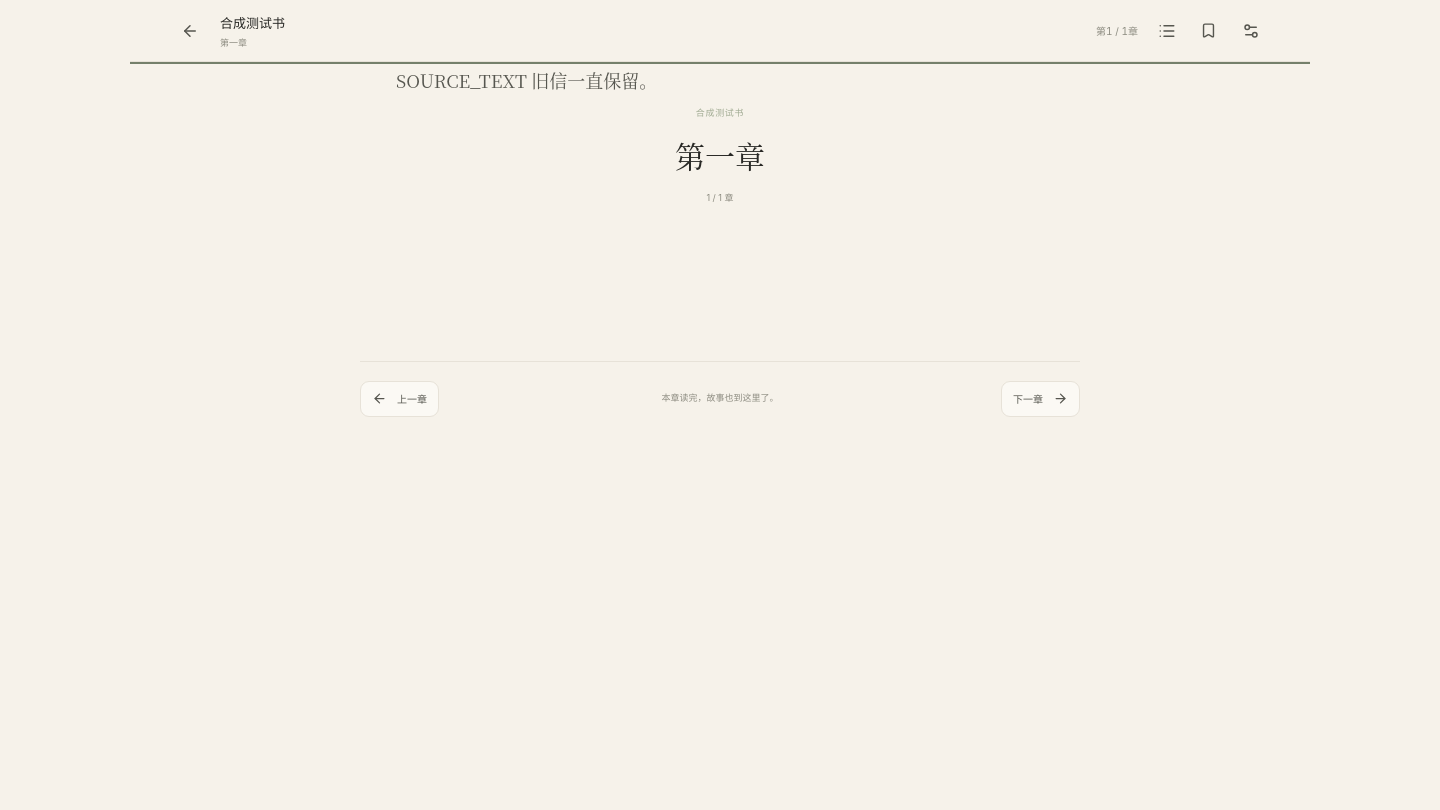
Reader page expanded AI context flow › keeps the table of contents free of the redundant return-to-shelf footer
Click the button named "打开章节目录": point(1166, 30) x1=1149 y1=13 x2=1184 y2=48
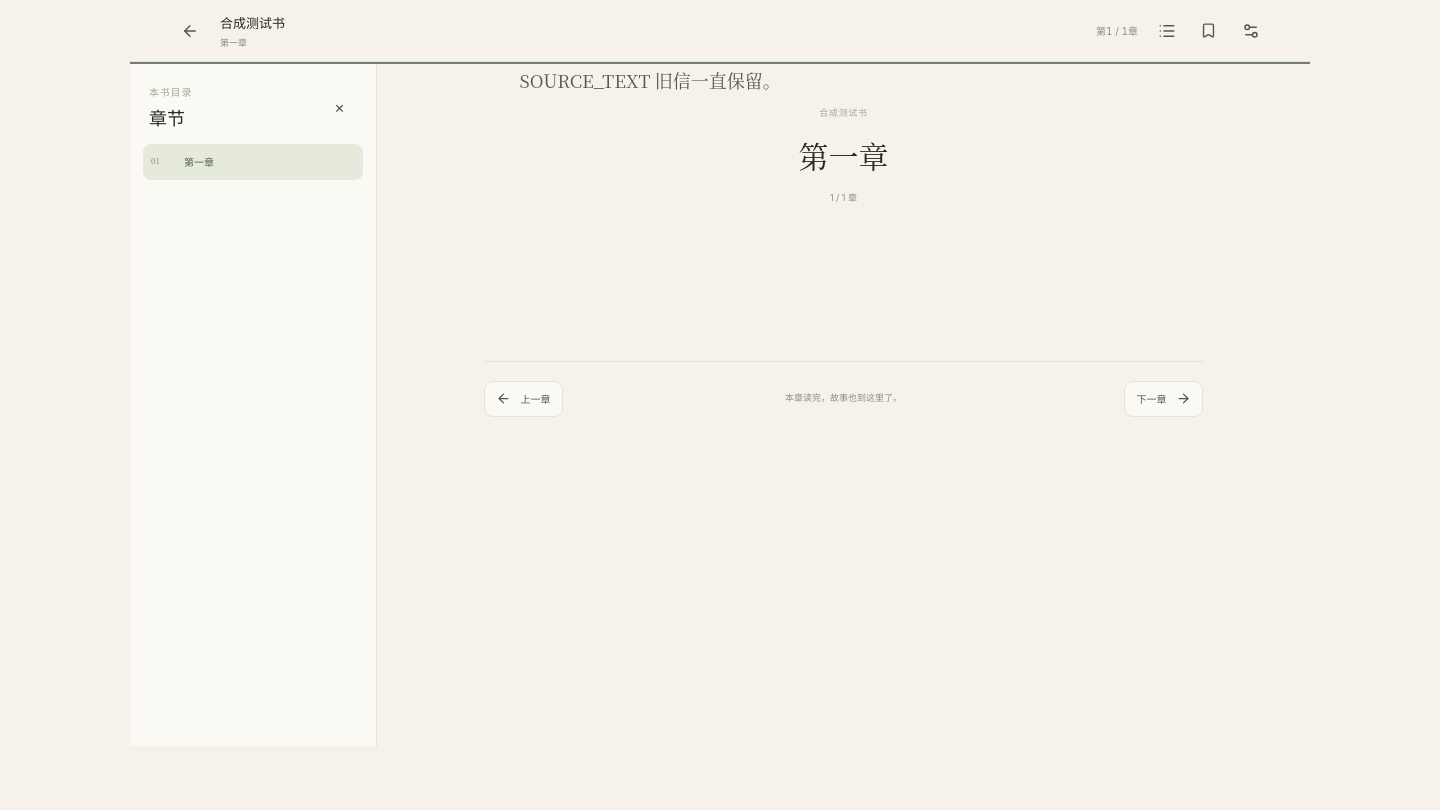
Result: the element with class "reader-toc" shows "第一章" at x1=143 y1=144 x2=363 y2=180
